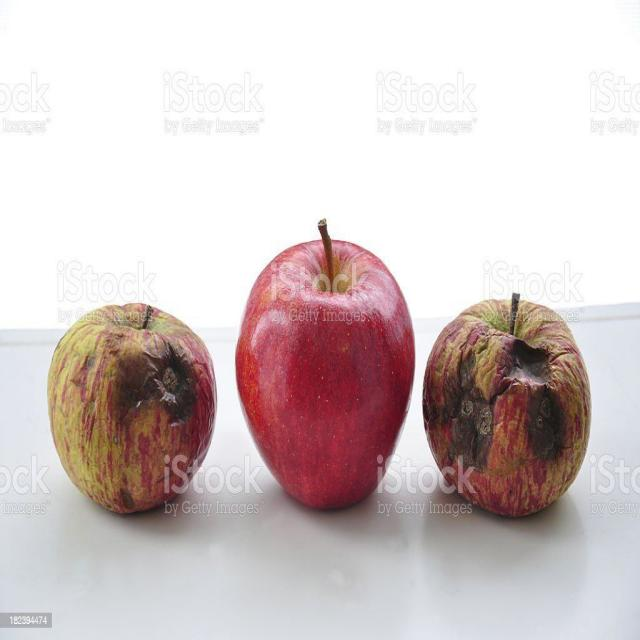fresh_apple: (235, 240, 415, 514)
rotten_apple: (421, 297, 591, 518), (48, 302, 217, 517)
